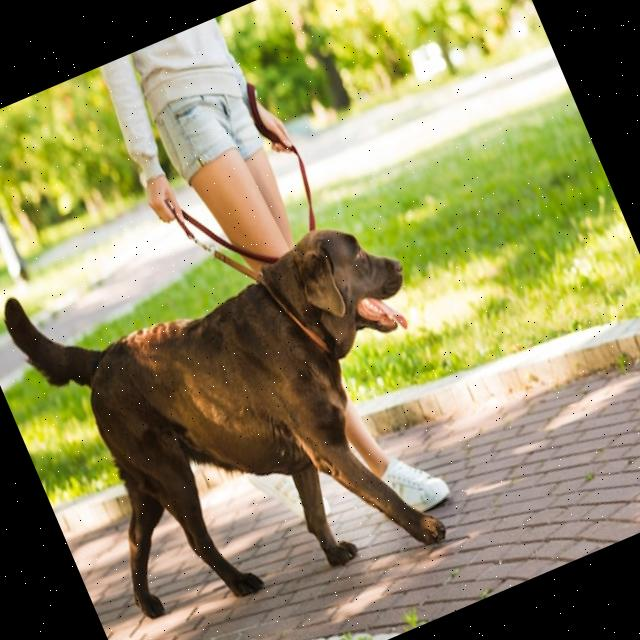Dog: (0, 149, 507, 640)
